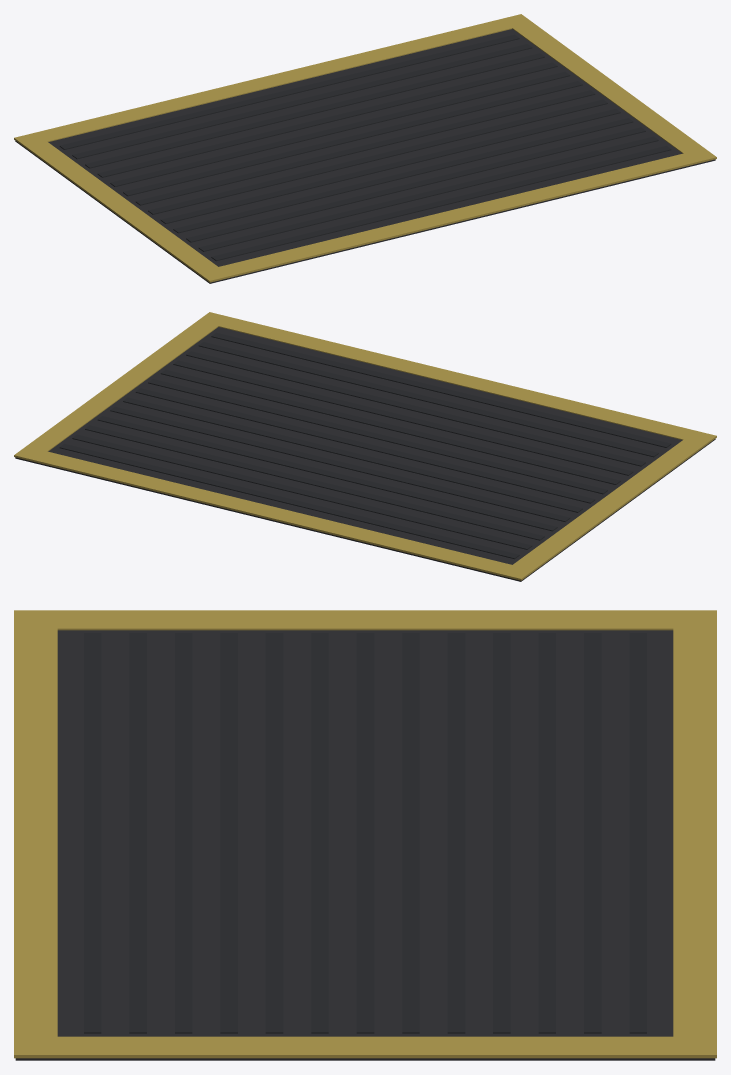
Rendered from astro_floor_mat.fbx.
3 renders of one model, top to bottom at view 1: azimuth 30°, elevation 25°; view 2: azimuth 150°, elevation 25°; view 3: azimuth 270°, elevation 25°, orthographic. The views are drawn at different scales.
Parts seen in each view (by area): view 1: FloorMat_Body; view 2: FloorMat_Body; view 3: FloorMat_Body.
Boxes of the visible parts, x1,y1,x2,y2 form: FloorMat_Body: [14, 14, 716, 283]; FloorMat_Body: [14, 312, 716, 581]; FloorMat_Body: [14, 610, 716, 1060].
Size of the model in its own units: 301 by 2 by 201.
